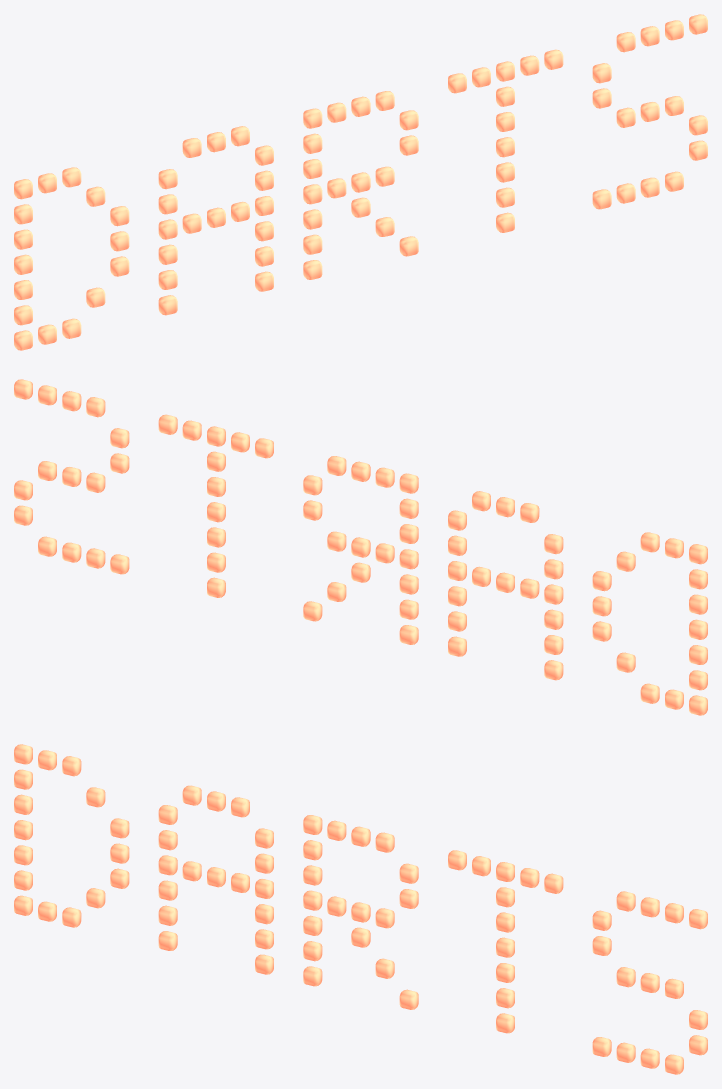
File: neon_darts.glb
3 views of the same model, one above another, from view 1: azimuth 30°, elevation 25°; view 2: azimuth 150°, elevation 25°; view 3: azimuth 330°, elevation 25° (orthographic).
Visible parts, largest first — view 1: Neon red; view 2: Neon red; view 3: Neon red.
Boxes of the visible parts, x1,y1,x2,y2 form: Neon red: (14,14,707,350); Neon red: (14,379,707,715); Neon red: (14,744,707,1074).
Bounding box in the file's own units: 1.15 × 0.2656 × 0.02.
